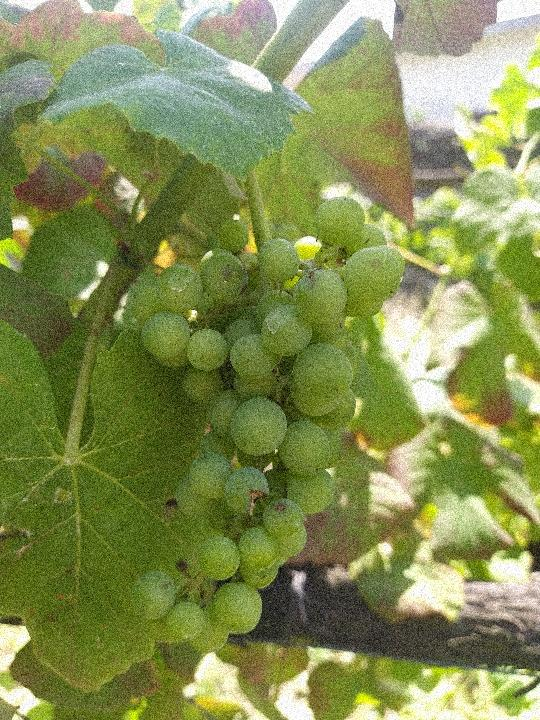grape: (122, 192, 405, 658)
